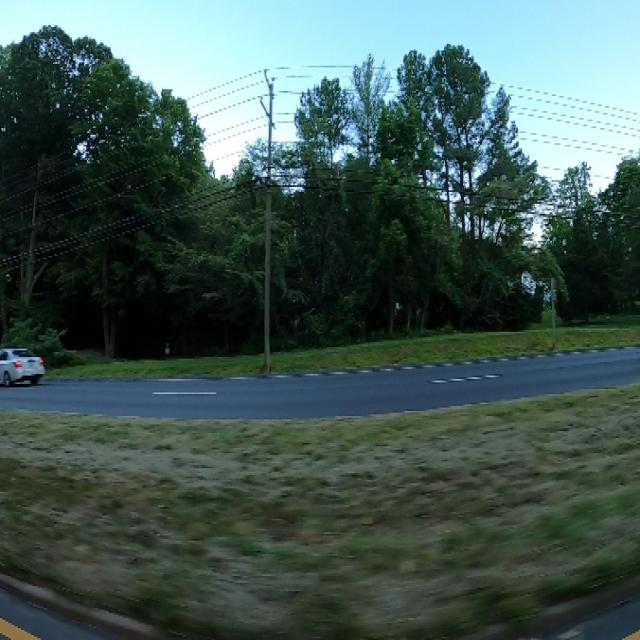car: (0, 333, 46, 397)
